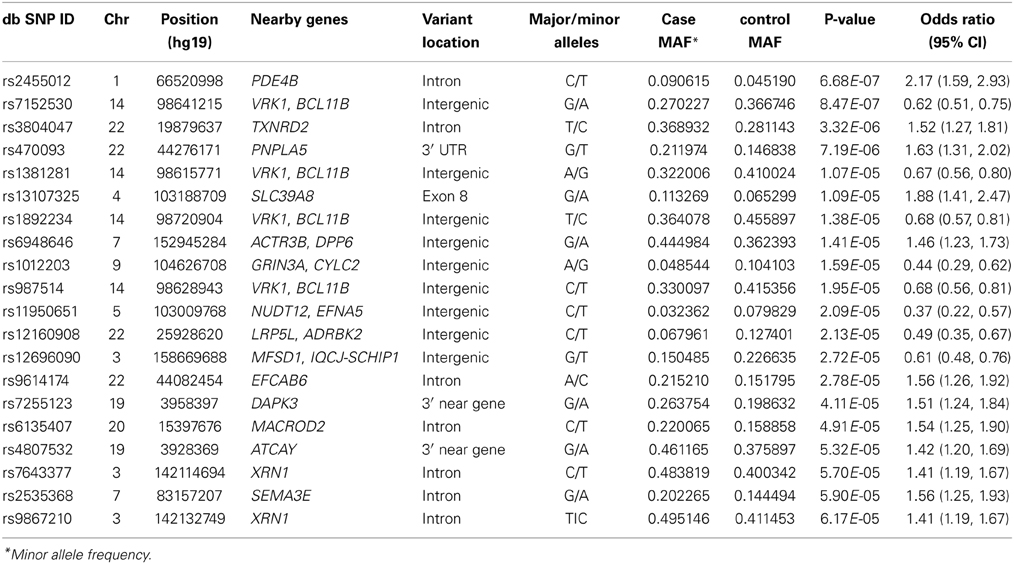table: (1, 6, 1013, 534)
